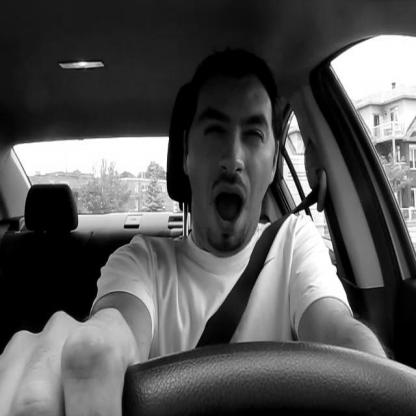seatbelt: (138, 26, 300, 346)
